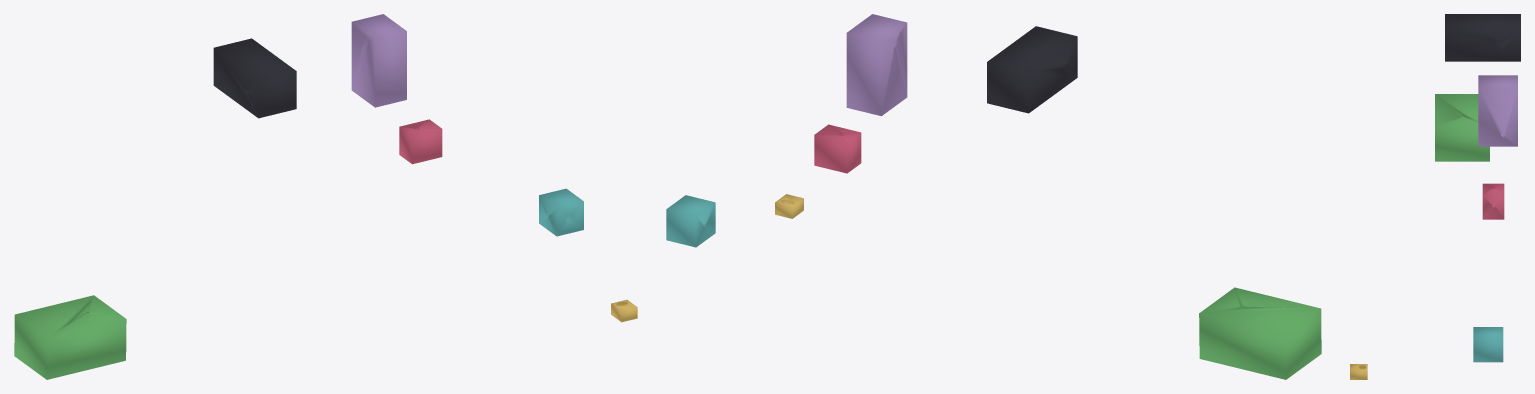
File: Camera_animation.glb
The picture shows the model from 3 angles, left to right: view 1: azimuth 30°, elevation 25°; view 2: azimuth 150°, elevation 25°; view 3: azimuth 270°, elevation 25°; orthographic projection. The views are drawn at different scales.
Visible parts, largest first — view 1: 05_To_06, 04_To_05, 03_To_04, 01_To_02, 02_To_03; view 2: 05_To_06, 04_To_05, 03_To_04, 01_To_02, 02_To_03, 00_To_01; view 3: 04_To_05, 05_To_06, 03_To_04, 01_To_02, 02_To_03, 00_To_01.
Boxes of the visible parts, left/top/right/bottom form: 05_To_06: left=14, top=295, right=126, bottom=379; 04_To_05: left=213, top=38, right=296, bottom=118; 03_To_04: left=351, top=14, right=406, bottom=107; 01_To_02: left=539, top=188, right=583, bottom=236; 02_To_03: left=399, top=119, right=442, bottom=164; 05_To_06: left=1199, top=287, right=1321, bottom=379; 04_To_05: left=987, top=26, right=1077, bottom=113; 03_To_04: left=846, top=14, right=907, bottom=116; 01_To_02: left=666, top=195, right=715, bottom=247; 02_To_03: left=814, top=124, right=861, bottom=173; 00_To_01: left=775, top=194, right=803, bottom=218; 04_To_05: left=1445, top=14, right=1520, bottom=61; 05_To_06: left=1435, top=94, right=1489, bottom=161; 03_To_04: left=1478, top=75, right=1517, bottom=146; 01_To_02: left=1473, top=327, right=1503, bottom=362; 02_To_03: left=1482, top=183, right=1504, bottom=219; 00_To_01: left=1350, top=364, right=1367, bottom=379.
Size of the model in its own units: 699 by 329 by 219.
